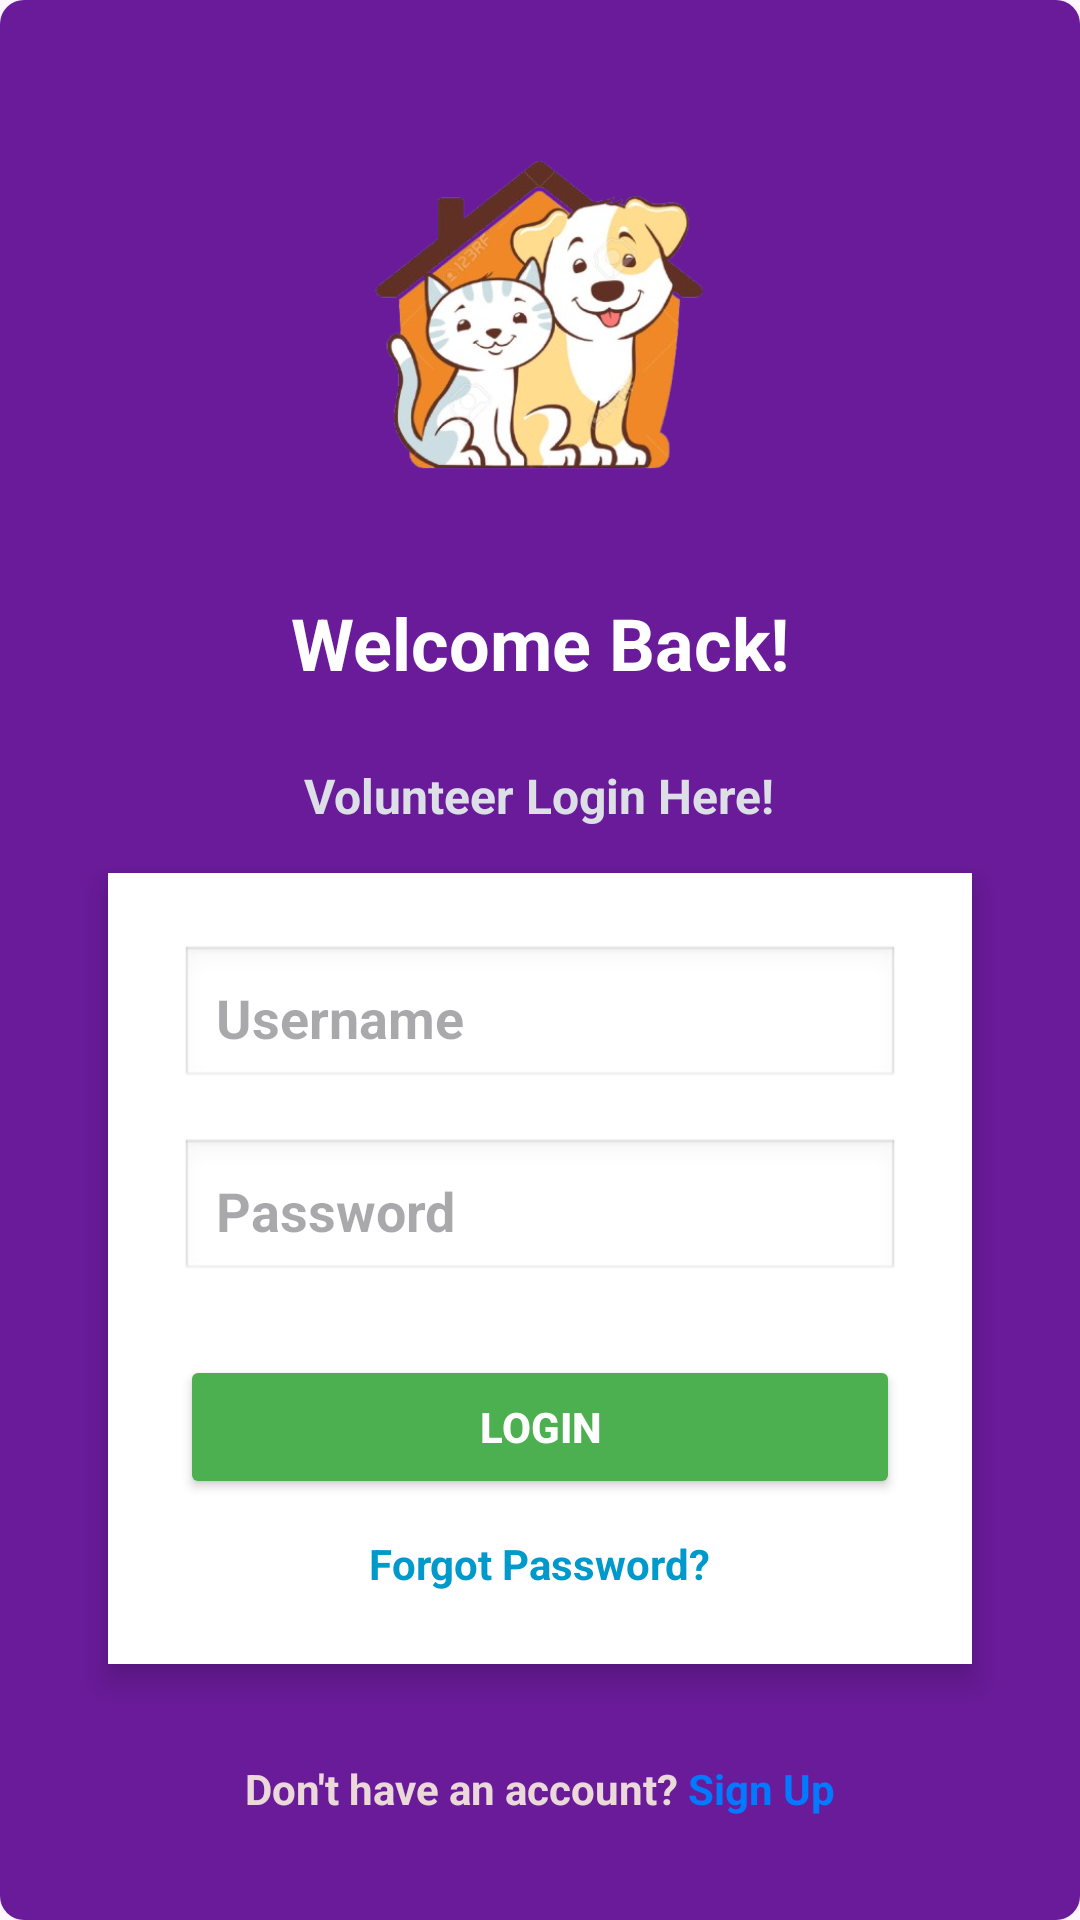

Point at icon controls on the screen. Image size 1080 x 1920, points as (x=x, y=y).
dog: (x=539, y=314)
